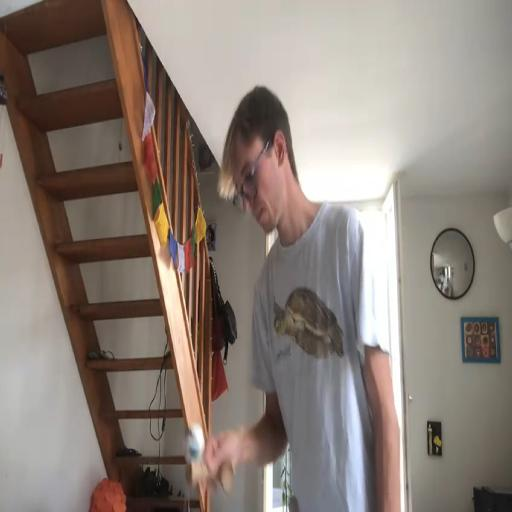kendama_ball: (186, 423, 204, 461)
